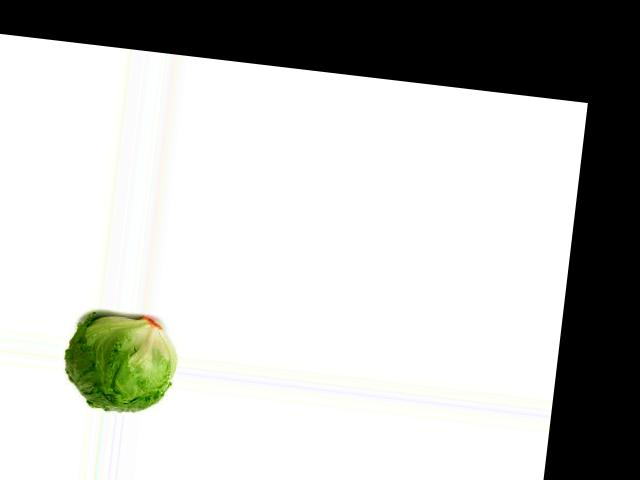lettuce: (60, 310, 174, 417)
